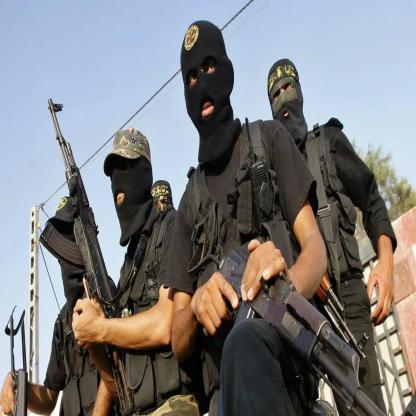rifle: (190, 214, 396, 416), (40, 98, 136, 416), (2, 304, 34, 416)
